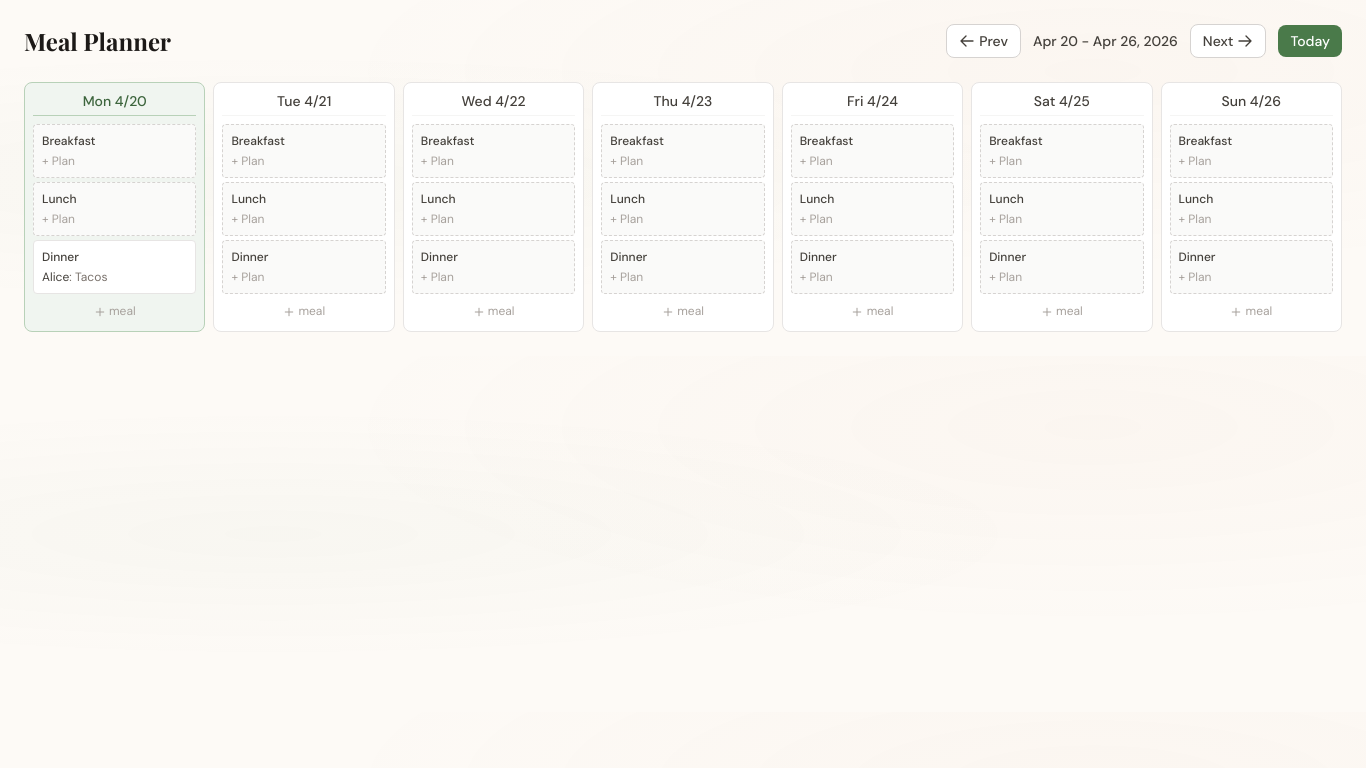
it: MealPlanner — default recipe for a new serving › defaults a new serving to the recipe another person already picked in the slot
This screenshot has width=1366, height=768.
Expected: the text "Alice: Tacos" is shown, [42, 269, 108, 285]
Note: Open the Monday Dinner editor.
Click the button "Dinner Alice: Tacos". click: {"x": 115, "y": 267}
box: [33, 240, 196, 294]
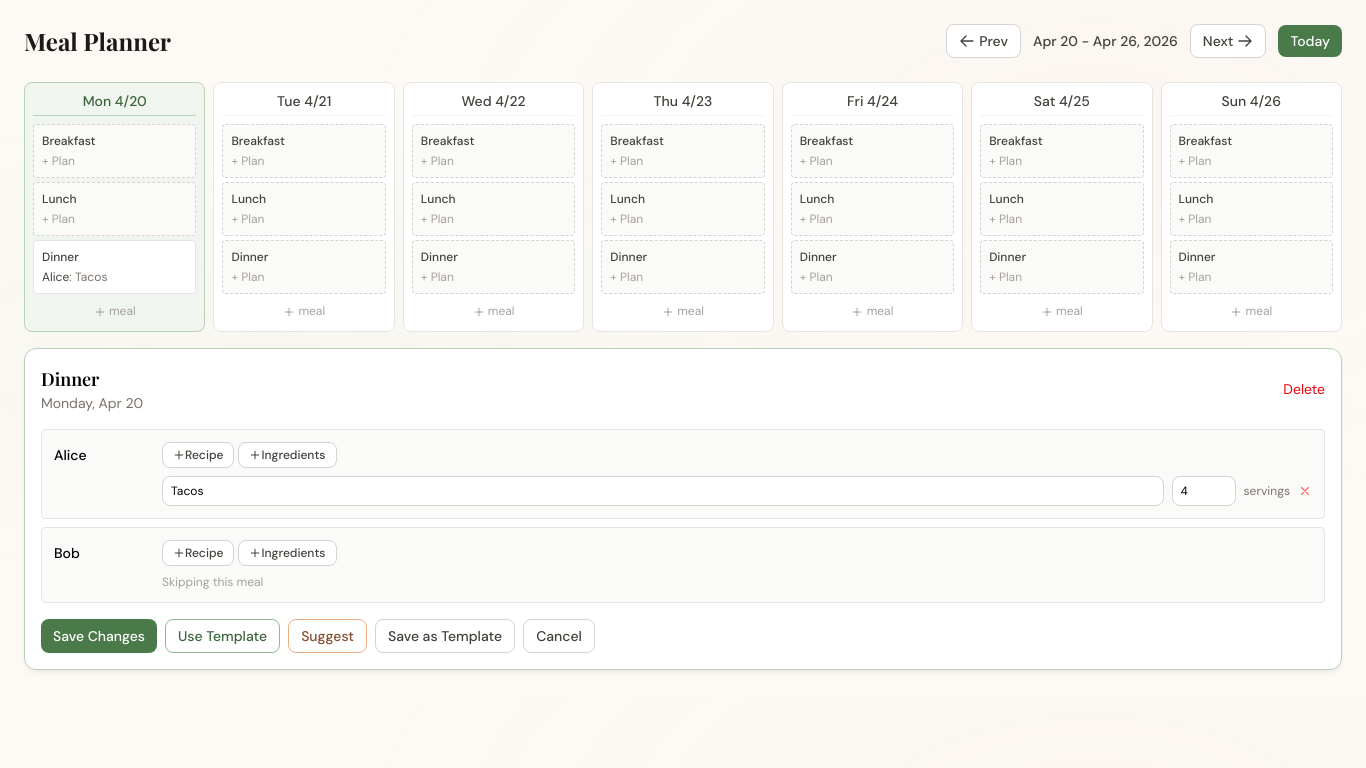
Now the button "Save Changes" is shown, box [41, 619, 157, 653]
Click the button "Recipe" next to "Bob". click: {"x": 198, "y": 553}
box: [162, 540, 234, 566]
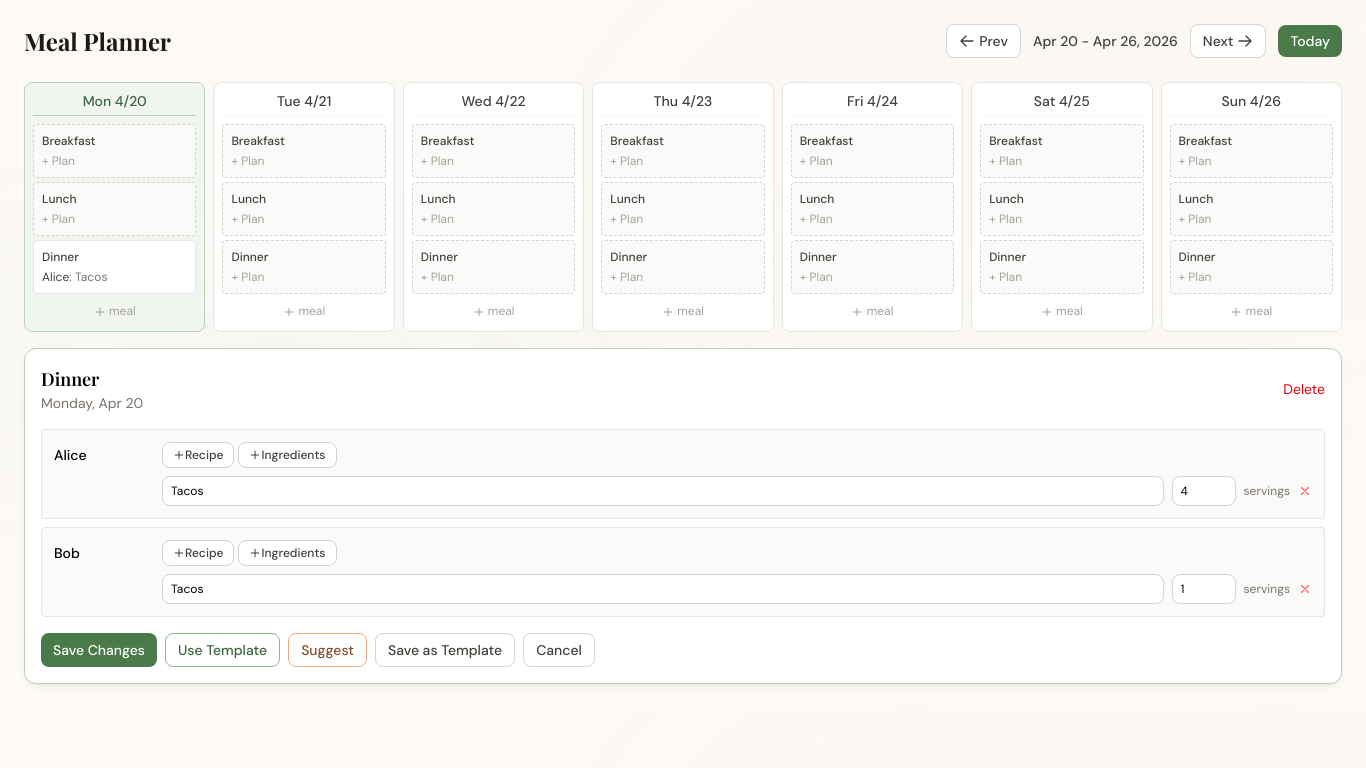
Now the number of dropdowns is 2, box [162, 476, 1164, 506]; [162, 574, 1164, 604]
Now the dropdown named "Recipe" below "Bob" holds "Tacos", box [162, 574, 1164, 604]
